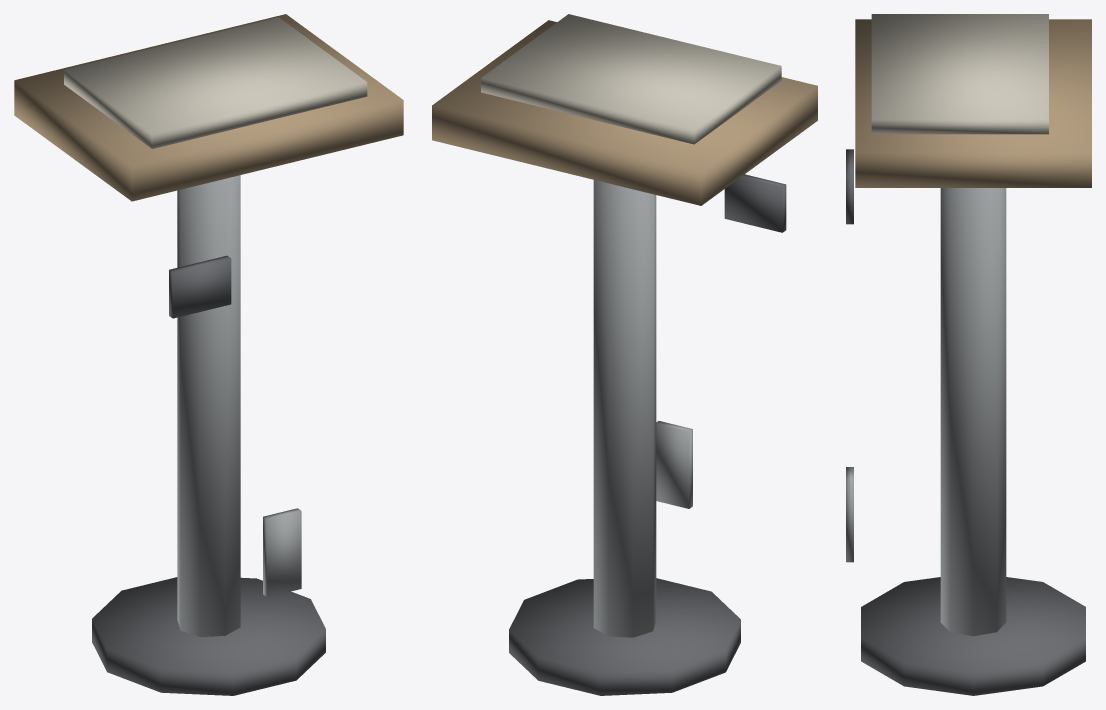
File: memorial_guestbook_stand__weathered.glb
The picture shows the model from 3 angles, left to right: view 1: azimuth 30°, elevation 25°; view 2: azimuth 150°, elevation 25°; view 3: azimuth 270°, elevation 25°; orthographic projection.
Visible parts, largest first — view 1: world; view 2: world; view 3: world.
Boxes of the visible parts, box(x1,y1,x2,y2) form: world: box(14, 14, 403, 695); world: box(432, 14, 817, 695); world: box(846, 14, 1091, 695).
Size of the model in its own units: 0.48 by 0.9727 by 0.374.
